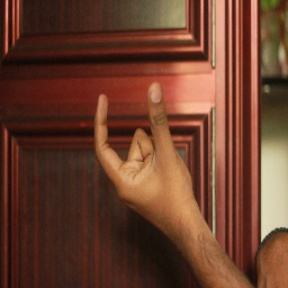U: (92, 76, 179, 205)
